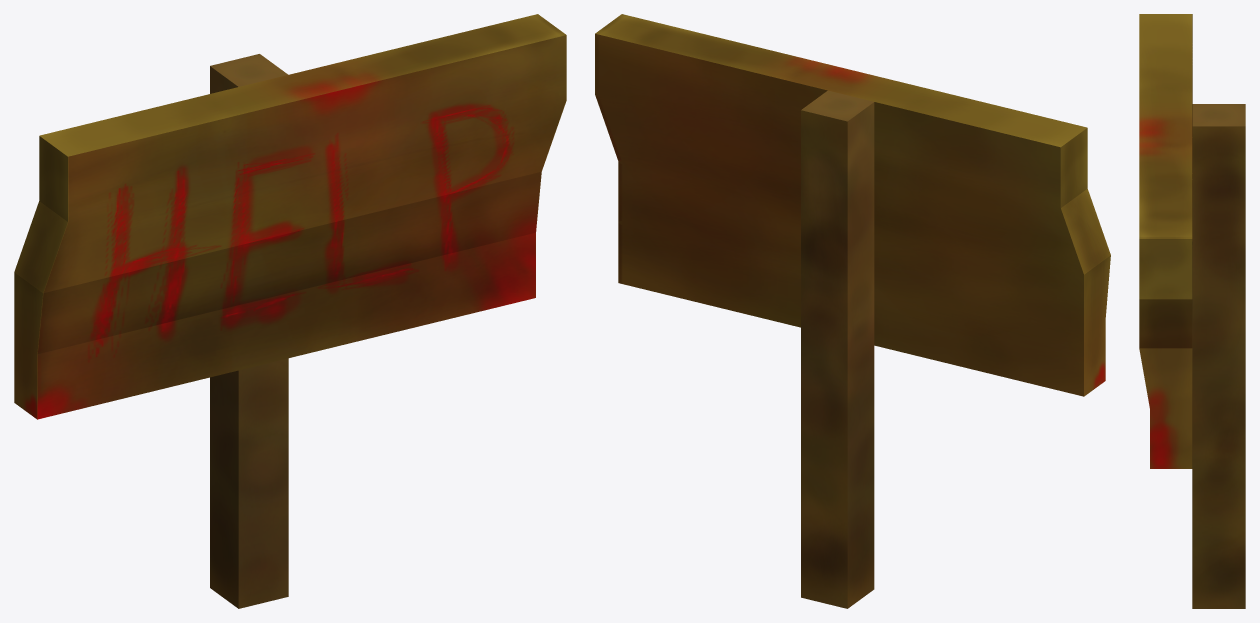
File: bordje.fbx
The picture shows the model from 3 angles, left to right: view 1: azimuth 30°, elevation 25°; view 2: azimuth 150°, elevation 25°; view 3: azimuth 270°, elevation 25°; orthographic projection. The views are drawn at different scales.
Parts seen in each view (by area): view 1: Cube.001, Cube; view 2: Cube.001, Cube; view 3: Cube, Cube.001.
Part boxes in pixels (x1,y1,x2,y2): Cube.001: (14,14,566,419); Cube: (210,54,288,608); Cube.001: (595,14,1110,396); Cube: (801,90,874,608); Cube: (1192,104,1245,608); Cube.001: (1139,14,1192,468).
Bounding box in the file's own units: 2100 × 2000 × 400.
2 materials, 2 textured.
